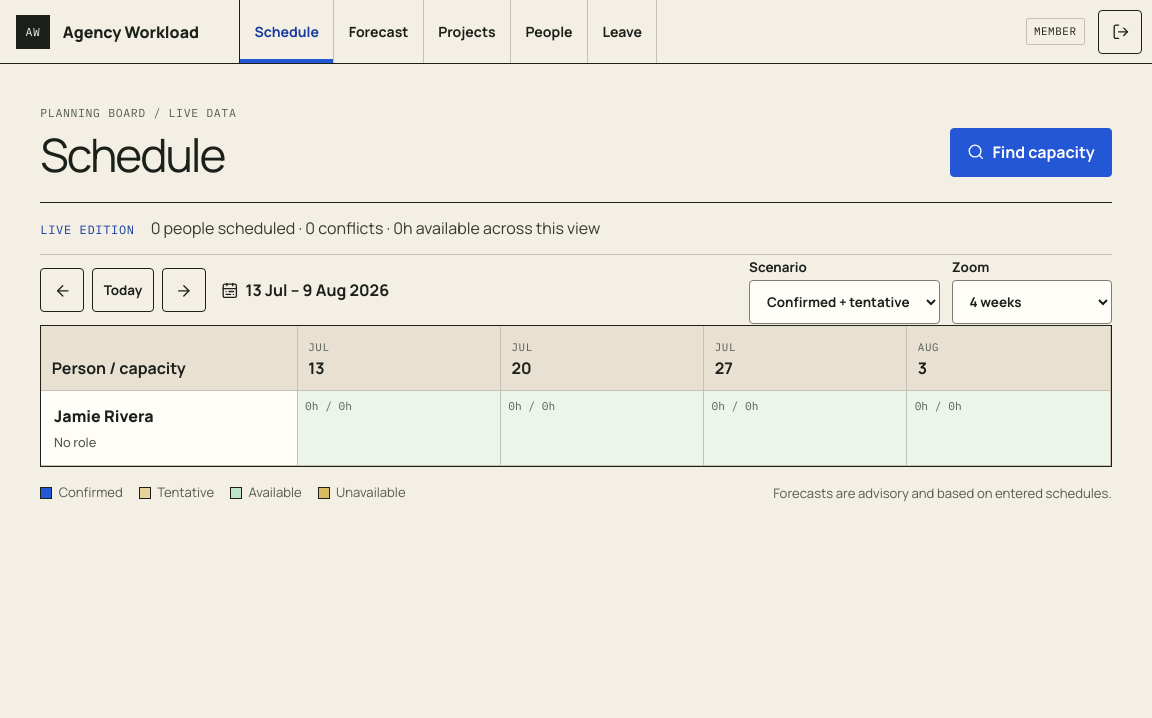
Agency Workload app routes › keeps Start Finder read-only for member roles
Click the button "Find capacity": (1031, 152) [950, 128, 1112, 177]
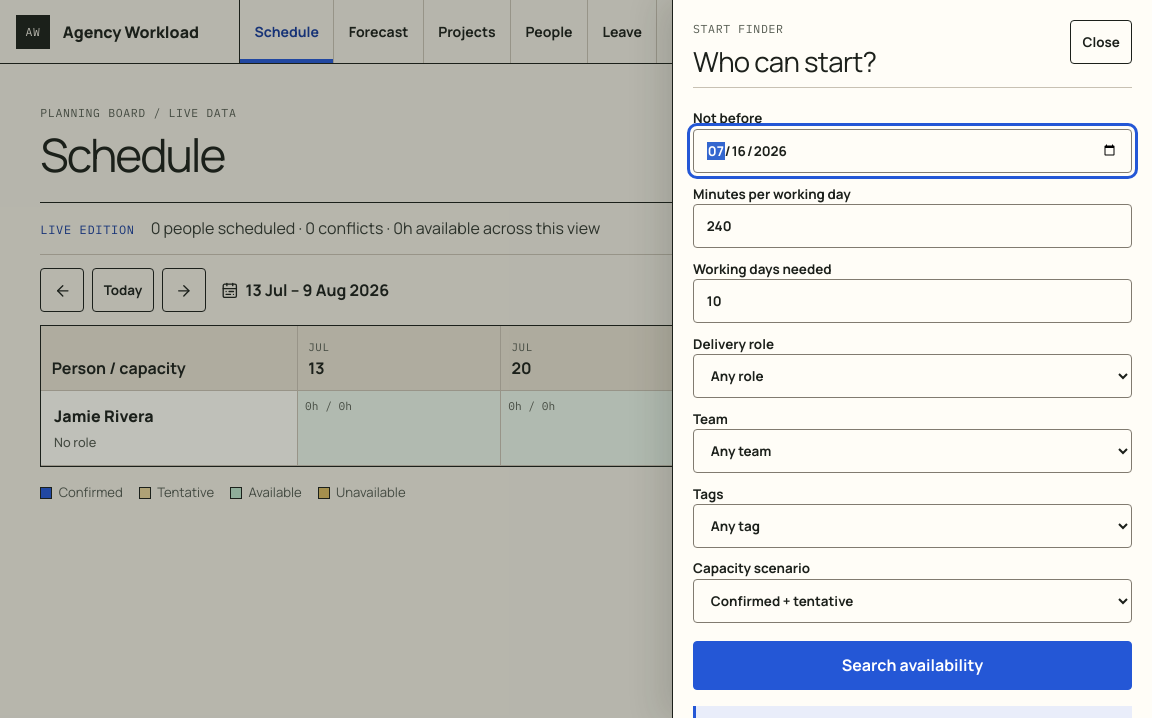
Click the button "Search availability": (912, 665) [693, 641, 1132, 690]
(page scrolled)
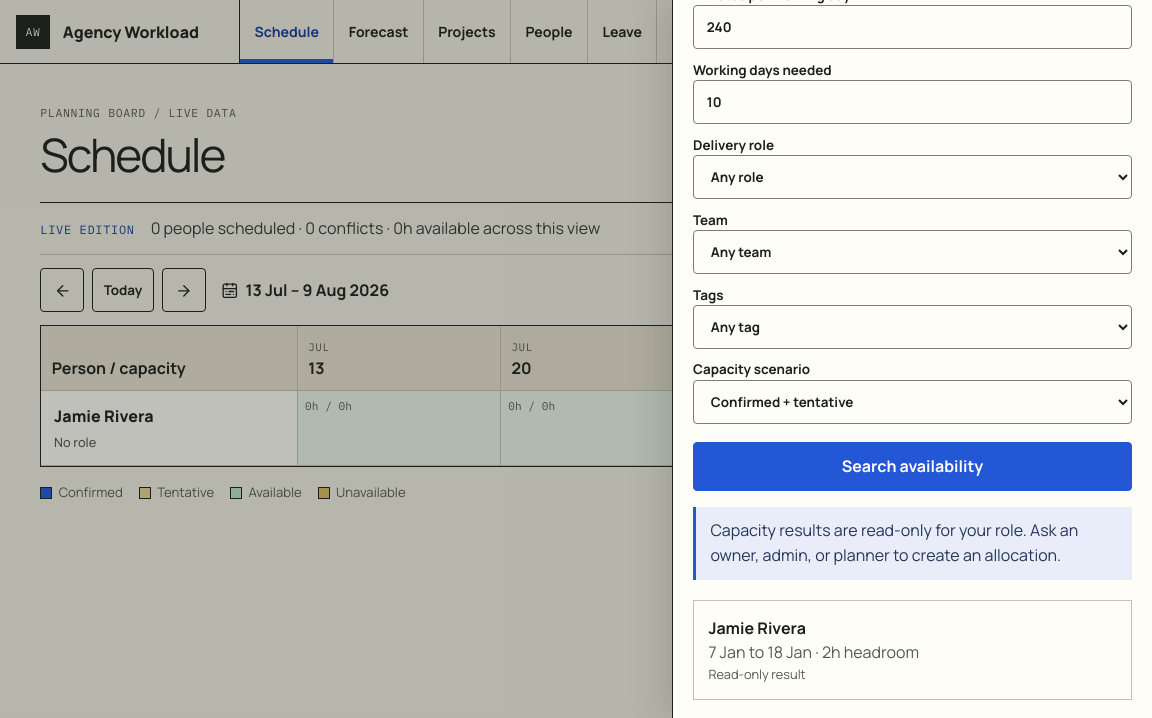
Expected: the text "results are read-only for your role" is shown, [710, 519, 1078, 566]
Expected: the text "Read-only result" is shown, [708, 665, 806, 683]
